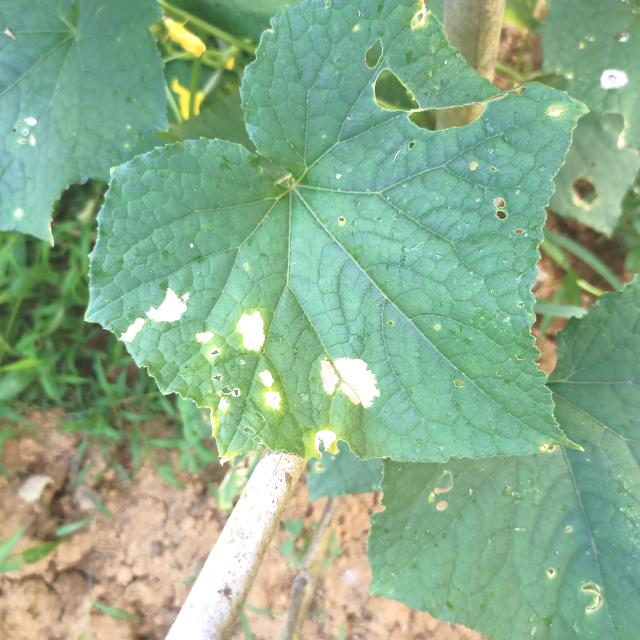disease_cucumber: (192, 304, 285, 416), (308, 337, 388, 411), (118, 283, 192, 343), (304, 422, 350, 458)
